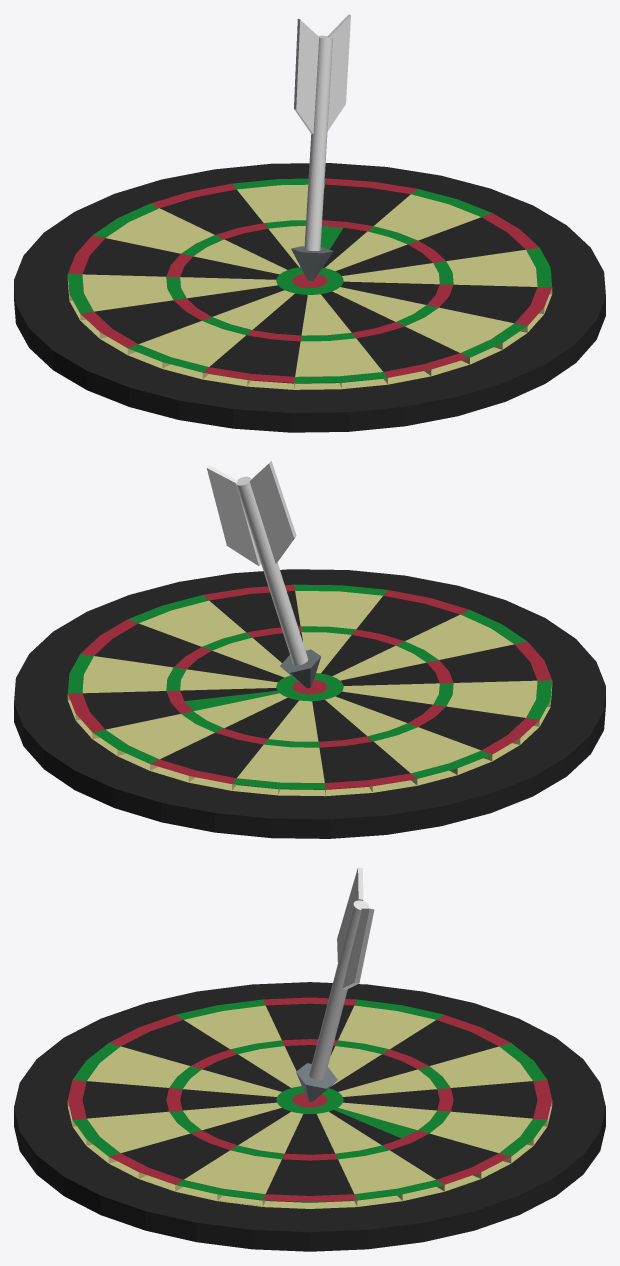
Rendered from dartboard.glb.
3 views of the same model, one above another, from view 1: azimuth 30°, elevation 25°; view 2: azimuth 150°, elevation 25°; view 3: azimuth 270°, elevation 25° (orthographic).
Parts seen in each view (by area): view 1: Cylinder.001, Cylinder, Cylinder.002, Cube, Cube.001, Cone.001; view 2: Cylinder.001, Cylinder, Cylinder.002, Cube.001, Cube, Cone.001; view 3: Cylinder.001, Cylinder, Cylinder.002, Cube.001, Cone.001, Cube.
Part boxes in pixels (x1=…): Cylinder.001: x1=67, y1=178, x2=552, y2=389; Cylinder: x1=14, y1=163, x2=605, y2=432; Cylinder.002: x1=304, y1=35, x2=332, y2=250; Cube: x1=294, y1=19, x2=319, y2=133; Cube.001: x1=327, y1=14, x2=350, y2=130; Cone.001: x1=291, y1=246, x2=333, y2=281; Cylinder.001: x1=67, y1=584, x2=552, y2=796; Cylinder: x1=14, y1=569, x2=605, y2=838; Cylinder.002: x1=235, y1=476, x2=308, y2=665; Cube.001: x1=206, y1=465, x2=260, y2=565; Cube: x1=249, y1=461, x2=296, y2=563; Cone.001: x1=280, y1=649, x2=321, y2=688; Cylinder.001: x1=67, y1=997, x2=552, y2=1208; Cylinder: x1=14, y1=982, x2=605, y2=1251; Cylinder.002: x1=309, y1=900, x2=369, y2=1080; Cube.001: x1=342, y1=908, x2=374, y2=989; Cone.001: x1=296, y1=1063, x2=337, y2=1101; Cube: x1=337, y1=867, x2=363, y2=962.
Bounding box in the file's own units: 5.5 × 2.73 × 5.5.
